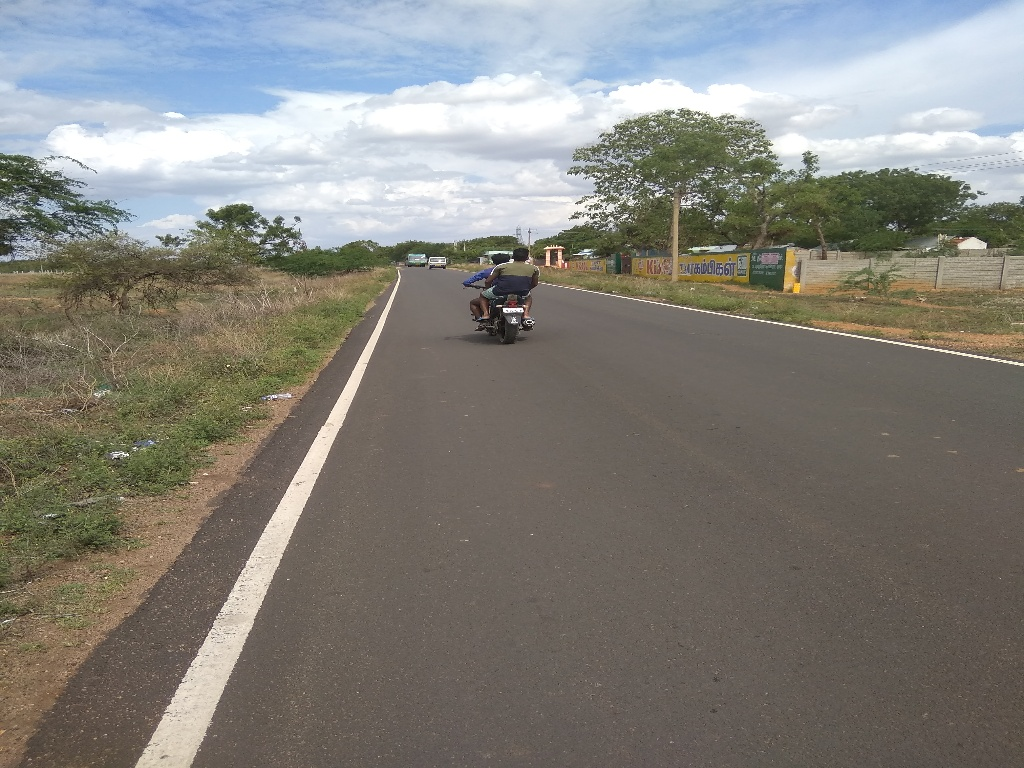biker: (456, 220, 560, 357)
nohelmet: (508, 236, 536, 275), (487, 241, 515, 280)
